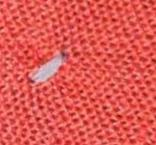hole: (25, 50, 74, 87)
